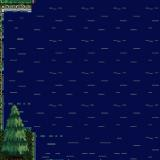Interaction: (0, 7, 19, 130), (0, 0, 42, 20), (28, 128, 44, 160), (0, 128, 44, 138)
Obstacle: (0, 129, 31, 160)
Slow: (33, 0, 160, 160), (5, 12, 33, 127)
